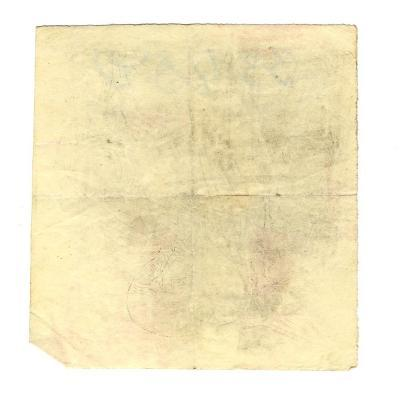graphics: (29, 24, 361, 374)
